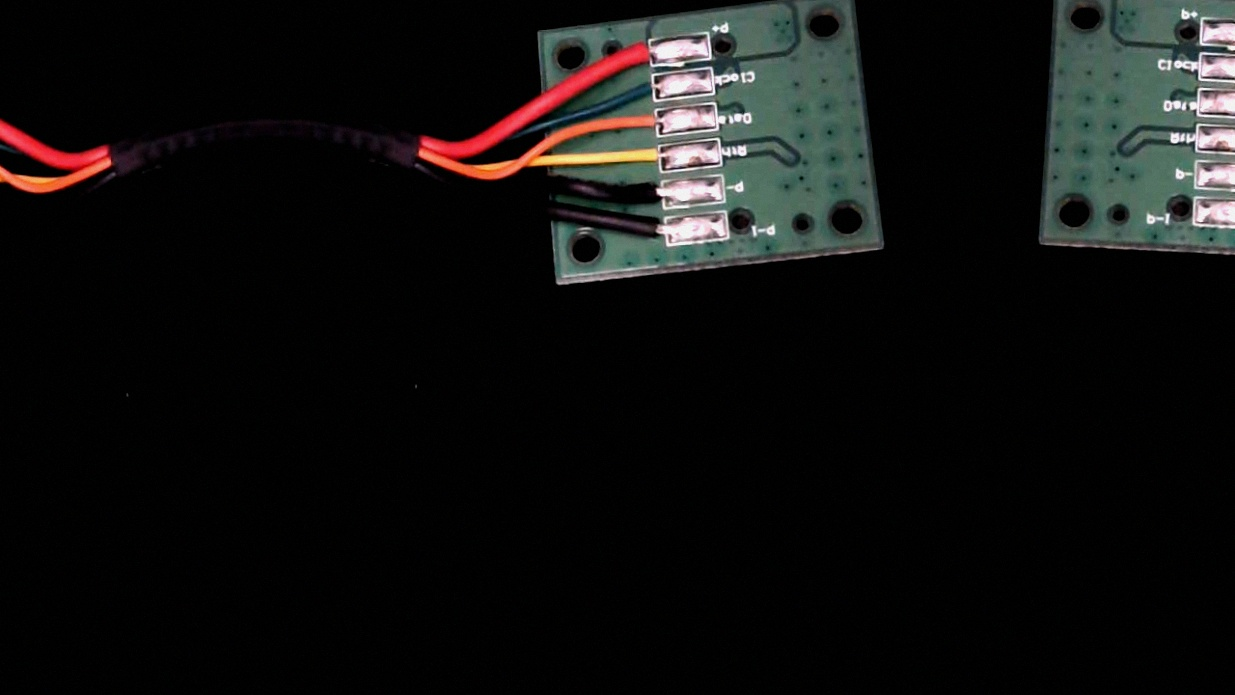Black: (615, 179, 678, 208)
Black1: (618, 214, 679, 247)
Green: (621, 70, 666, 108)
Orange: (618, 106, 670, 138)
Red: (621, 32, 664, 71)
Yellow: (619, 142, 675, 174)
